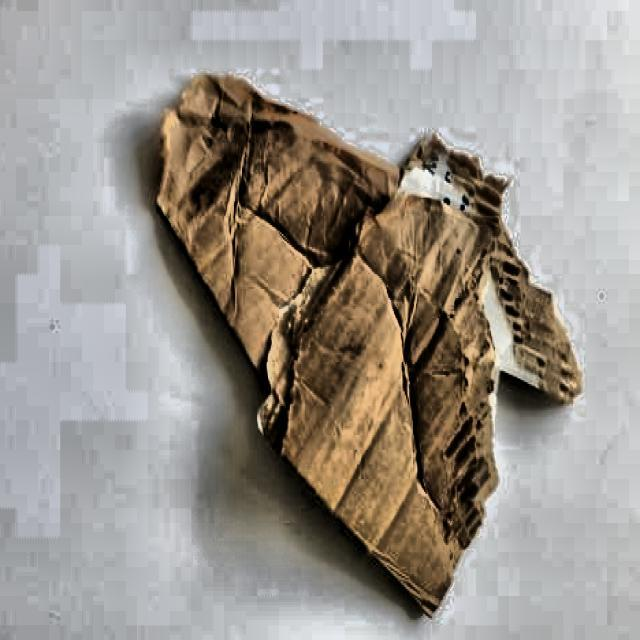cardboard: (155, 70, 582, 618)
